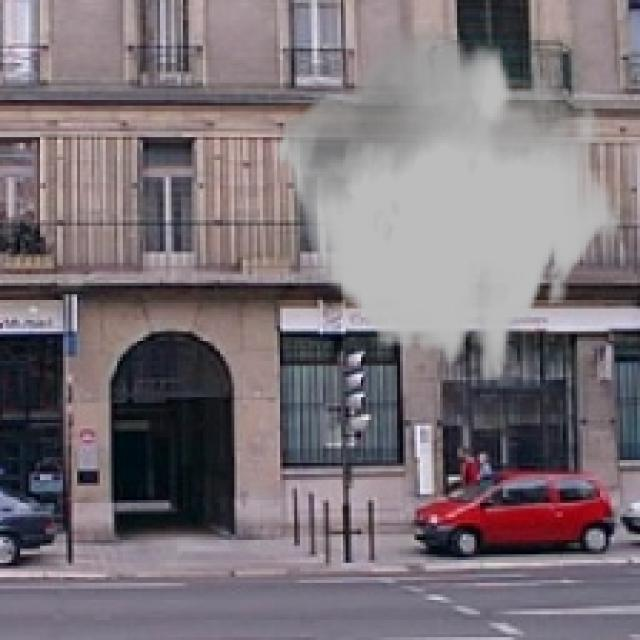Smoke: (274, 23, 620, 380)
